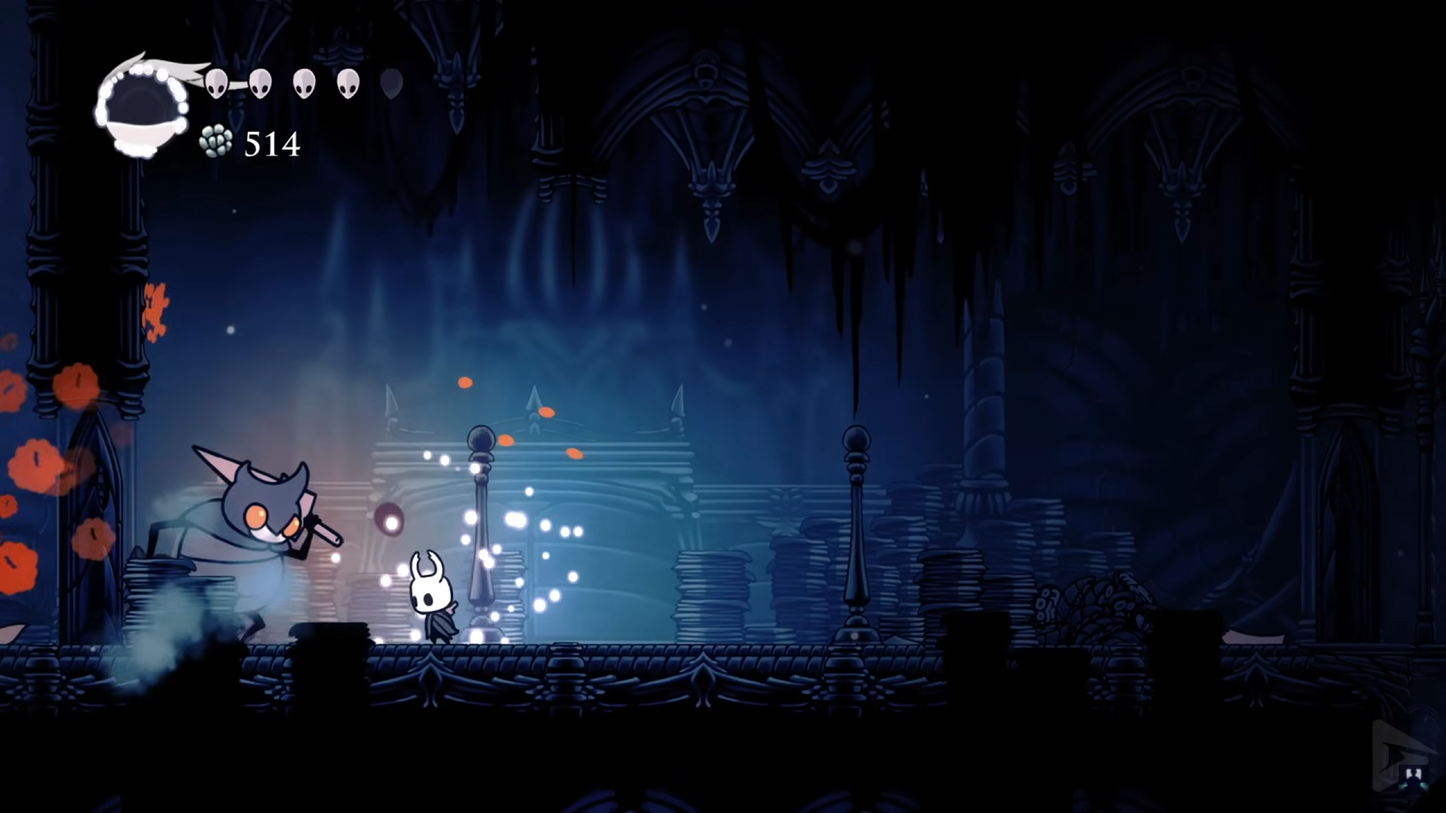HK: (403, 546, 464, 645)
